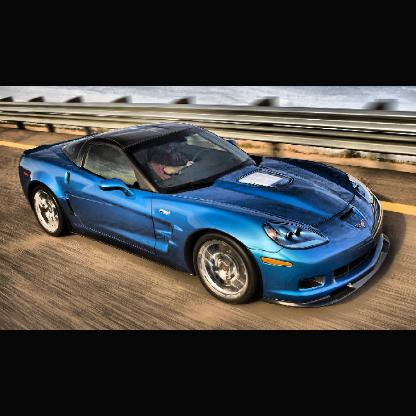Chevrolet Corvette ZR1 2012: (22, 124, 391, 307)
